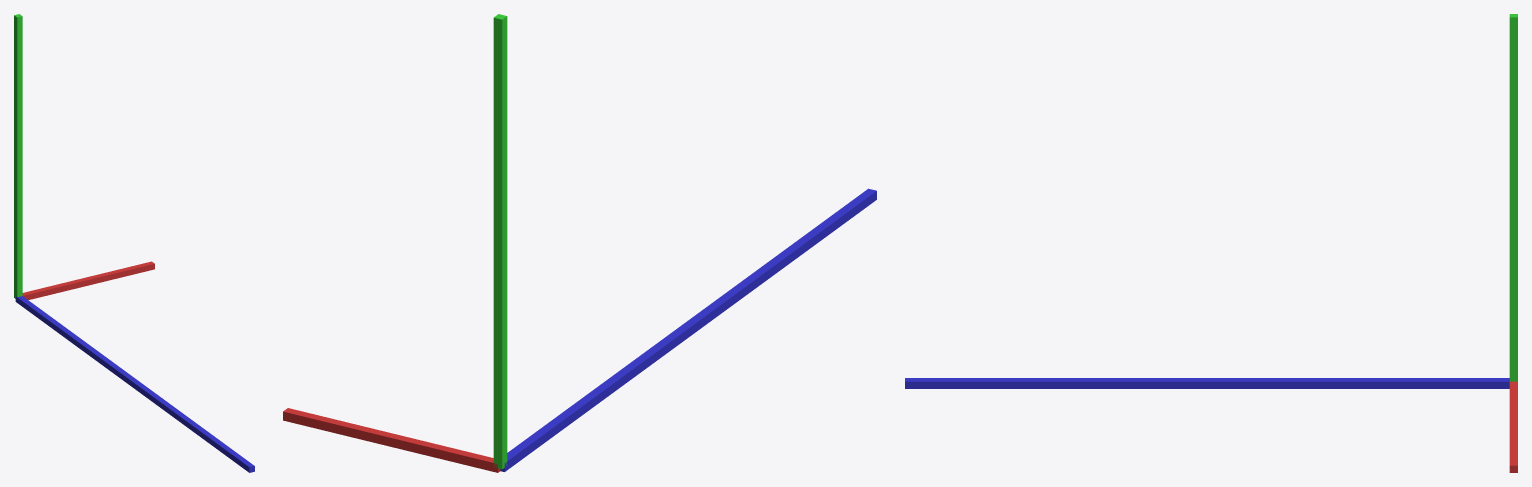
Rendered from basis-gauge.glb.
The picture shows the model from 3 angles, left to right: view 1: azimuth 30°, elevation 25°; view 2: azimuth 150°, elevation 25°; view 3: azimuth 270°, elevation 25°; orthographic projection. The views are drawn at different scales.
Parts seen in each view (by area): view 1: BASIS_Z_LOD0, BASIS_Y_LOD0, BASIS_X_LOD0; view 2: BASIS_Y_LOD0, BASIS_Z_LOD0, BASIS_X_LOD0; view 3: BASIS_Z_LOD0, BASIS_Y_LOD0, BASIS_X_LOD0.
Boxes of the visible parts, box(x1,y1,x2,y2) form: BASIS_Z_LOD0: box(15, 296, 254, 472); BASIS_Y_LOD0: box(14, 14, 22, 298); BASIS_X_LOD0: box(22, 261, 154, 299); BASIS_Y_LOD0: box(493, 14, 507, 469); BASIS_Z_LOD0: box(500, 188, 876, 471); BASIS_X_LOD0: box(283, 408, 500, 472); BASIS_Z_LOD0: box(905, 378, 1509, 388); BASIS_Y_LOD0: box(1509, 14, 1517, 381); BASIS_X_LOD0: box(1509, 381, 1517, 472).
Size of the model in its own units: 1.02 by 2.02 by 3.02.
